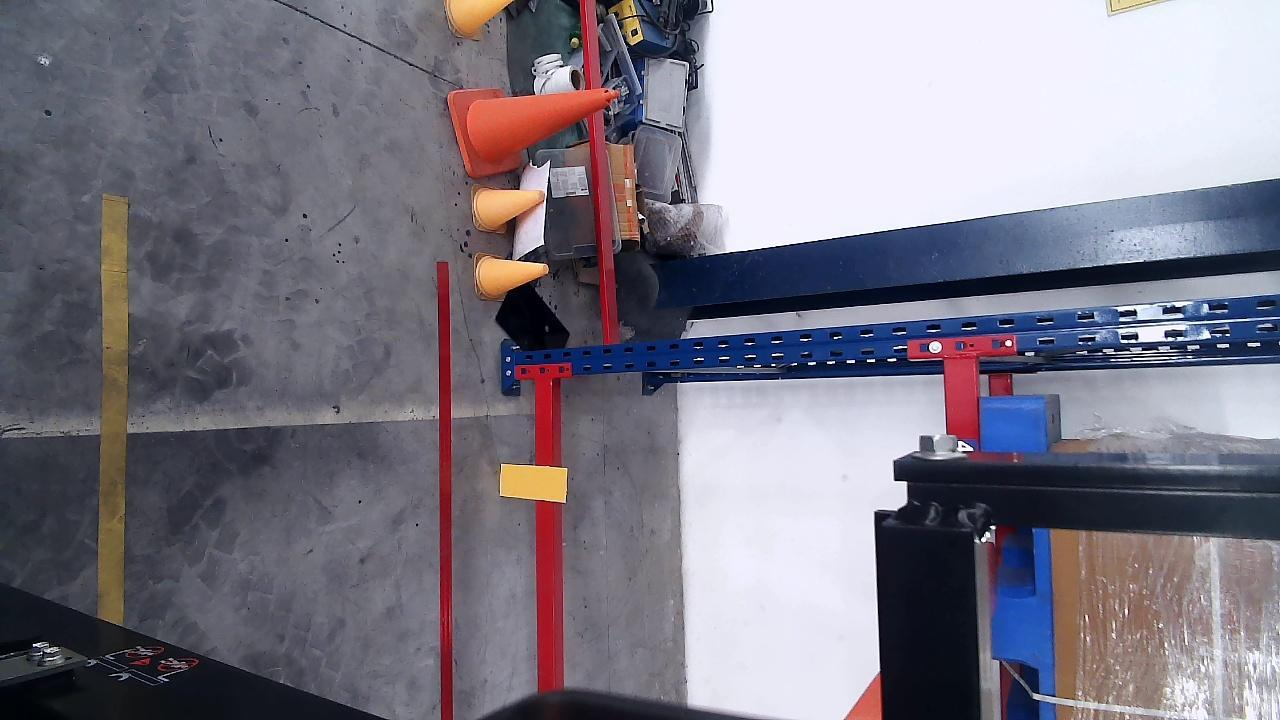h_rack: (535, 380, 557, 690)
orange_strip: (501, 463, 566, 501)
red_line: (437, 261, 453, 720)
small_pallet: (981, 401, 1055, 719)
yellow_line: (98, 195, 128, 625)
